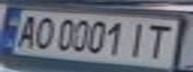0: (51, 16, 75, 52), (87, 17, 109, 55), (72, 17, 90, 53)
1: (103, 19, 127, 56)
A: (9, 12, 42, 48)
I: (124, 19, 151, 58)
O: (30, 15, 57, 51)
T: (139, 20, 178, 60)
